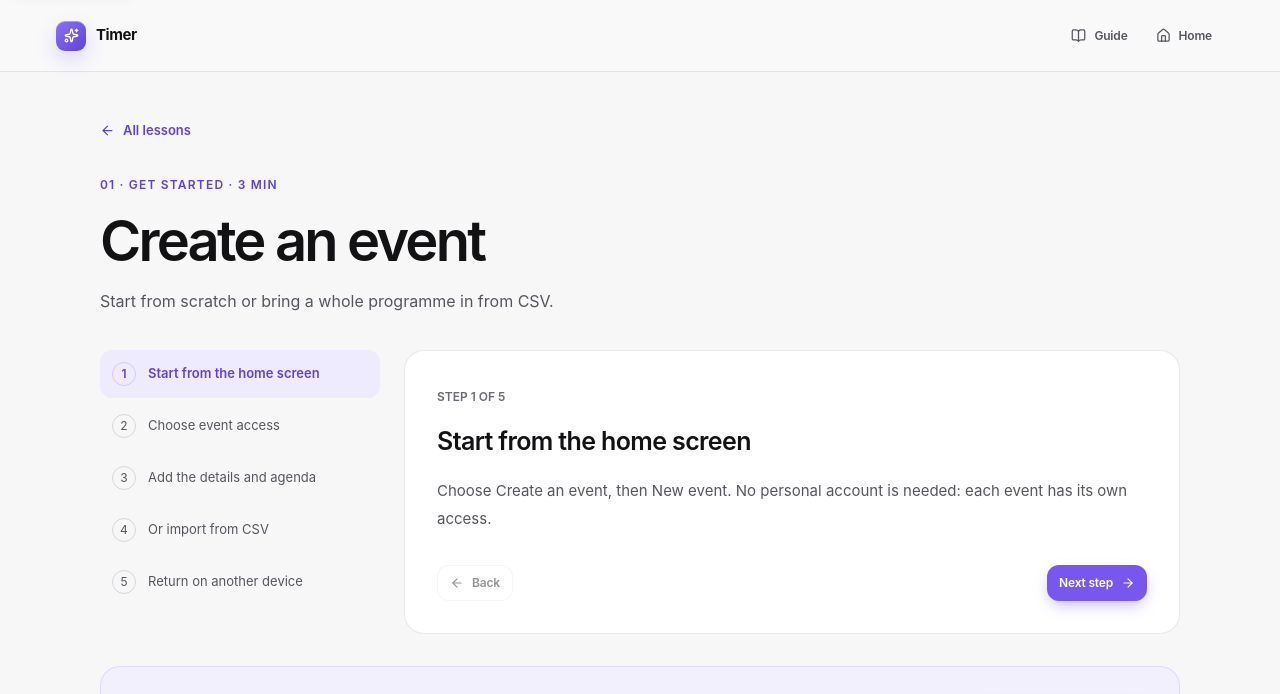
Test: Timer learning area › lets readers skip to an instruction and replay a completed lesson
Click the button "5 Return on another device".
click(240, 582)  # box top-left (100, 558), bottom-right (380, 606)
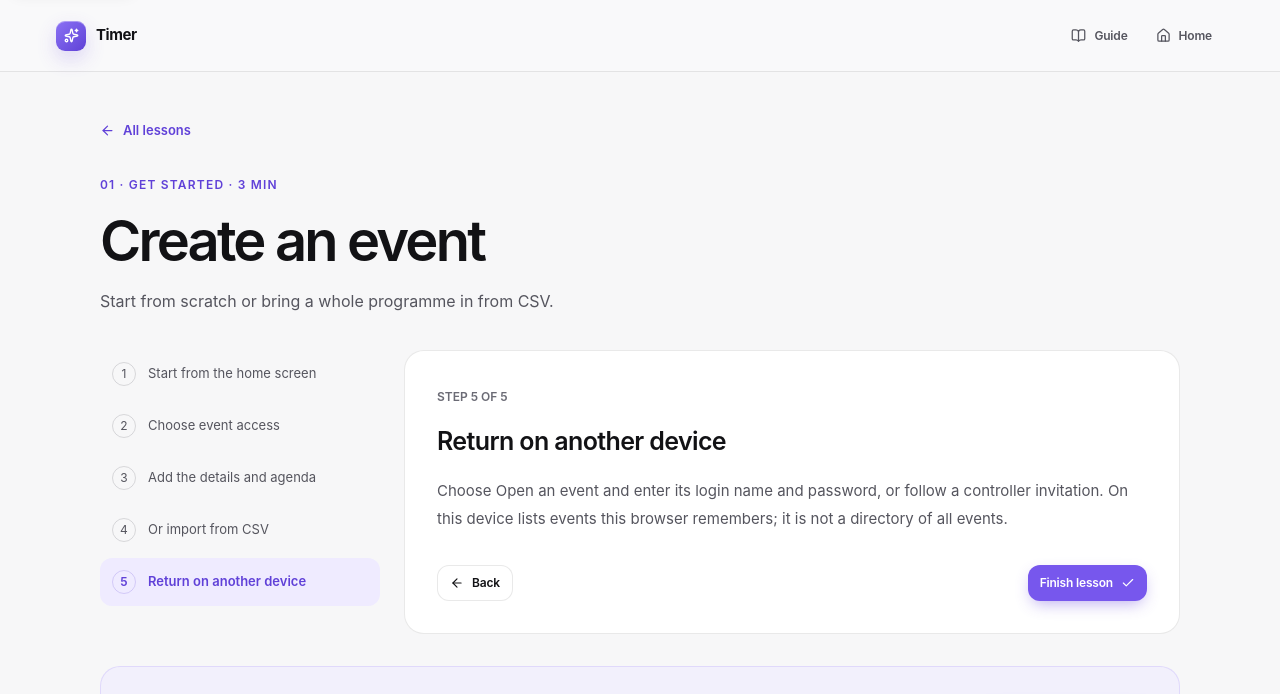
Click the button "Finish lesson".
click(1087, 582)  # box top-left (1028, 564), bottom-right (1147, 600)
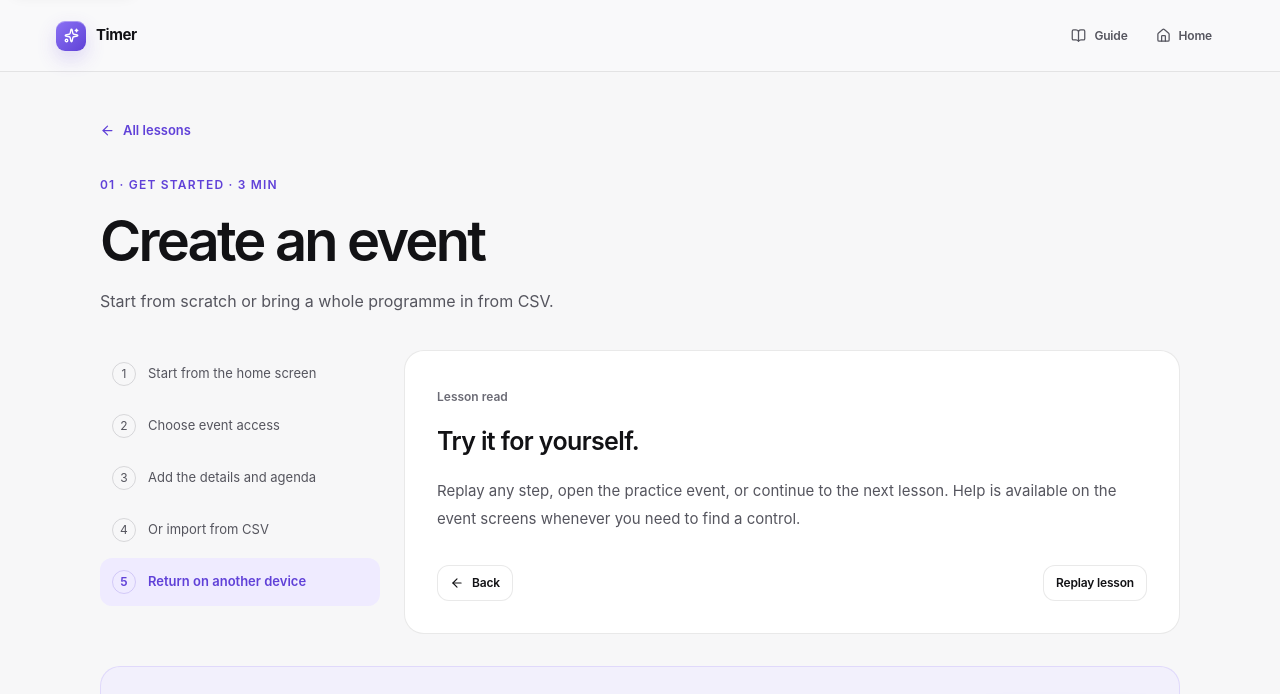
Expected: the heading "Try it for yourself." is shown, top-left (437, 426), bottom-right (639, 456)
Click the button "Replay lesson".
click(1095, 582)  # box top-left (1043, 564), bottom-right (1147, 600)
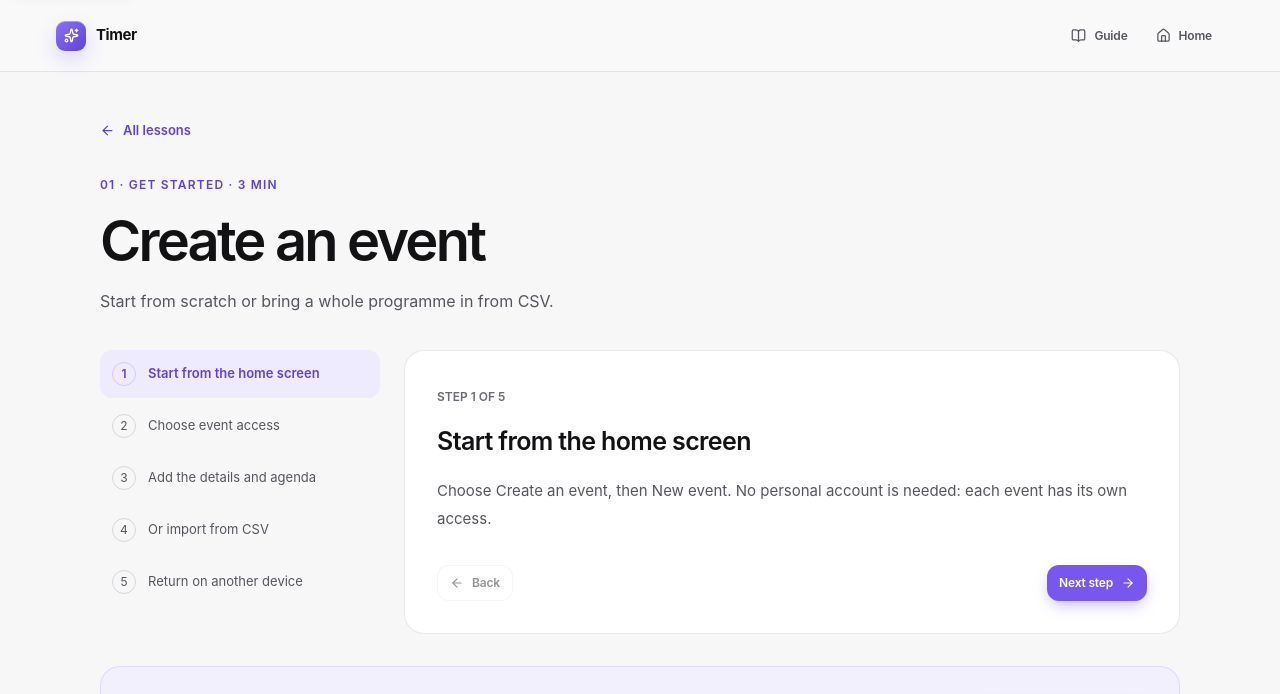
Expected: the heading "Start from the home screen" is shown, top-left (437, 426), bottom-right (751, 456)
